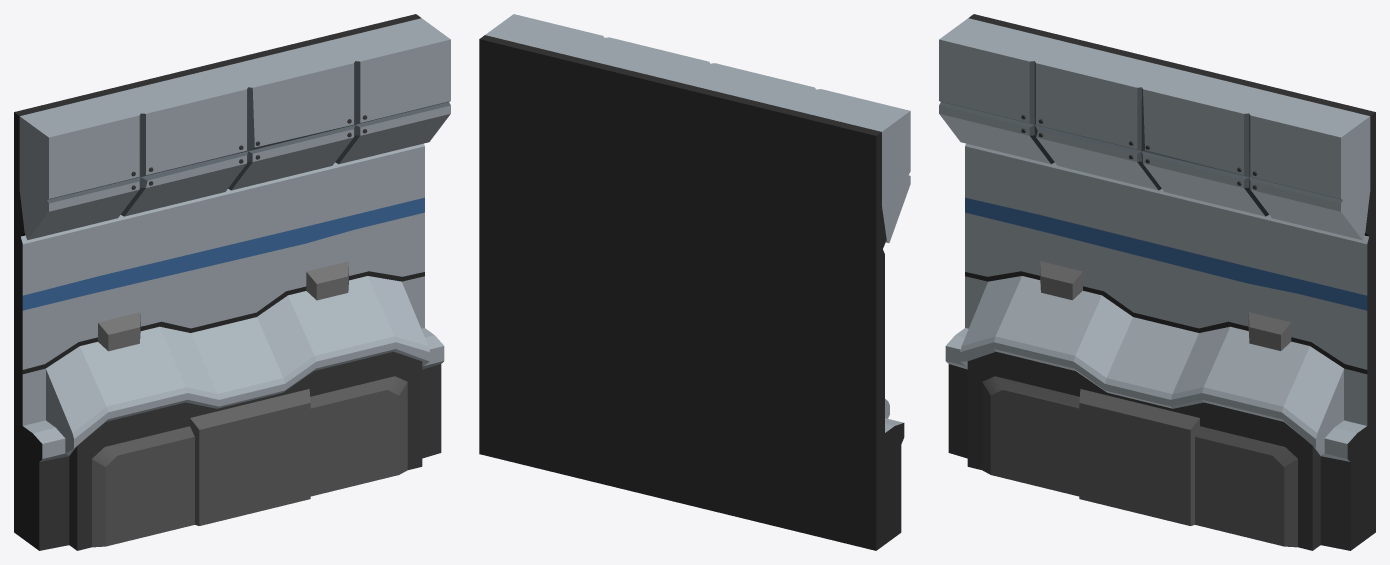
Rendered from SM_Bld_Wall_05.fbx.
3 renders of one model, left to right at view 1: azimuth 30°, elevation 25°; view 2: azimuth 150°, elevation 25°; view 3: azimuth 330°, elevation 25°, orthographic.
Visible parts, largest first — view 1: SM_Bld_Wall_05; view 2: SM_Bld_Wall_05; view 3: SM_Bld_Wall_05.
Boxes of the visible parts, left/top/right/bottom form: SM_Bld_Wall_05: left=14, top=14, right=450, bottom=550; SM_Bld_Wall_05: left=479, top=14, right=910, bottom=550; SM_Bld_Wall_05: left=939, top=14, right=1375, bottom=550.
Size of the model in its own units: 500 by 500 by 85.99.
1 material, 1 textured.
